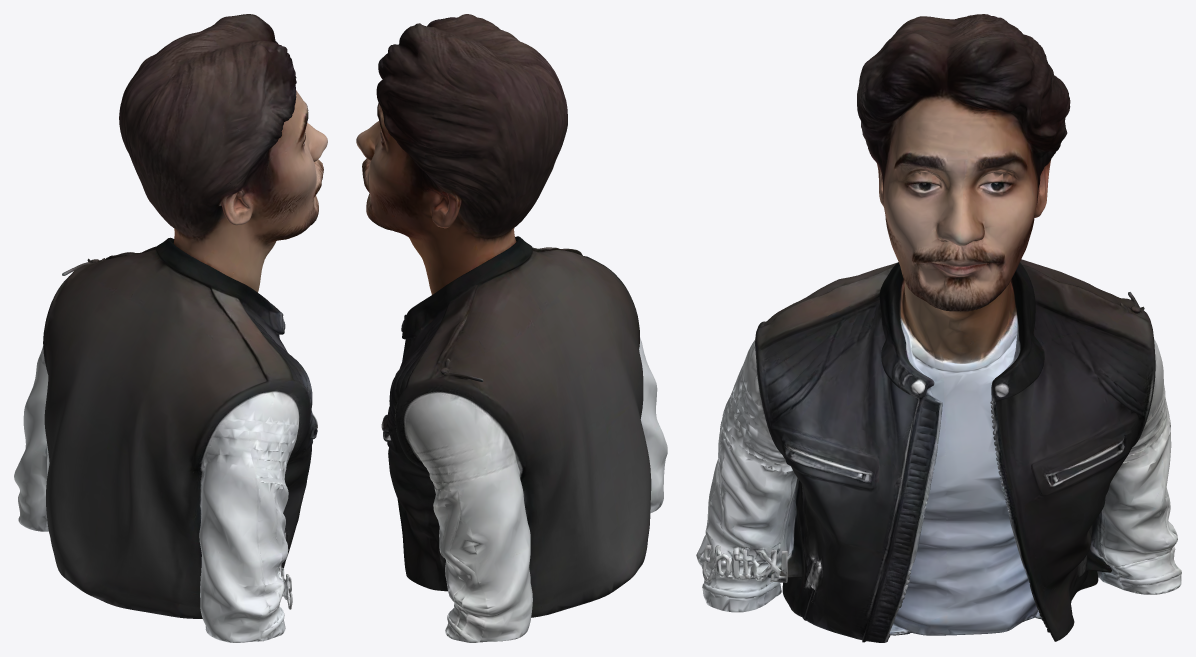
The model's file is hero-avatar.glb.
The picture shows the model from 3 angles, left to right: view 1: azimuth 30°, elevation 25°; view 2: azimuth 150°, elevation 25°; view 3: azimuth 270°, elevation 25°; orthographic projection. The views are drawn at different scales.
Visible parts, largest first — view 1: tripo_node_c333c38a-c4d2-4d8b-ad37-685fce3a1d9a; view 2: tripo_node_c333c38a-c4d2-4d8b-ad37-685fce3a1d9a; view 3: tripo_node_c333c38a-c4d2-4d8b-ad37-685fce3a1d9a.
Boxes of the visible parts, x1,y1,x2,y2 form: tripo_node_c333c38a-c4d2-4d8b-ad37-685fce3a1d9a: [14, 14, 327, 642]; tripo_node_c333c38a-c4d2-4d8b-ad37-685fce3a1d9a: [356, 14, 667, 642]; tripo_node_c333c38a-c4d2-4d8b-ad37-685fce3a1d9a: [696, 14, 1181, 642].
Size of the model in its own units: 0.5113 by 0.9827 by 0.7018.
1 material, 1 textured.
